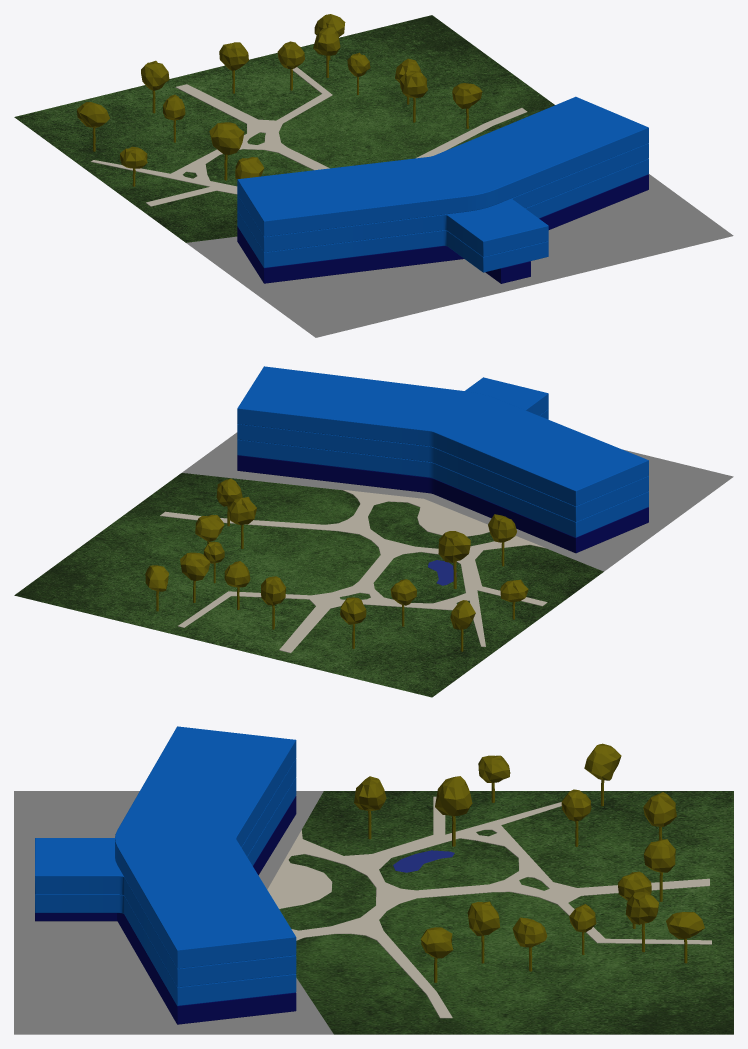
3 views of the same model, one above another, from view 1: azimuth 30°, elevation 25°; view 2: azimuth 150°, elevation 25°; view 3: azimuth 270°, elevation 25° (orthographic). The views are drawn at different scales.
Visible parts, largest first — view 1: park, floor_3, building_base, floor_2, floor_1, floor_0, paths, tree010, tree008, tree012, tree007, tree005 (+6 smaller); view 2: park, floor_3, paths, building_base, floor_2, floor_1, floor_0, tree010, tree01, tree013, tree005, tree007 (+8 smaller); view 3: park, floor_3, building_base, paths, floor_2, floor_1, floor_0, tree010, tree012, tree005, tree007, tree013 (+10 smaller).
Part boxes in pixels (<box>): park: <box>14,15,554,242</box>; floor_3: <box>237,96,648,236</box>; building_base: <box>186,174,733,337</box>; floor_2: <box>237,143,648,256</box>; floor_1: <box>237,159,648,272</box>; floor_0: <box>237,174,648,283</box>; paths: <box>91,67,527,206</box>; tree010: <box>209,122,244,180</box>; tree008: <box>141,60,169,113</box>; tree012: <box>77,102,109,151</box>; tree007: <box>219,42,248,93</box>; tree005: <box>400,70,427,122</box>; park: <box>14,473,603,697</box>; floor_3: <box>237,366,648,506</box>; paths: <box>160,489,547,653</box>; building_base: <box>182,432,733,571</box>; floor_2: <box>237,377,648,521</box>; floor_1: <box>237,409,648,537</box>; floor_0: <box>237,455,648,553</box>; tree010: <box>438,531,470,588</box>; tree01: <box>180,552,210,602</box>; tree013: <box>488,514,516,566</box>; tree005: <box>229,497,256,548</box>; tree007: <box>261,576,286,629</box>; park: <box>279,791,733,1034</box>; floor_3: <box>115,726,296,968</box>; building_base: <box>14,791,333,1034</box>; paths: <box>267,796,711,1018</box>; floor_2: <box>35,759,296,987</box>; floor_1: <box>35,777,296,1005</box>; floor_0: <box>35,796,296,1024</box>; tree010: <box>435,776,472,846</box>; tree012: <box>584,743,621,806</box>; tree005: <box>467,901,500,963</box>; tree007: <box>644,839,675,901</box>; tree013: <box>354,776,386,839</box>.
Size of the model in its own units: 2.8 by 0.4 by 3.5.
Materials: 9 (2 with a texture image).
